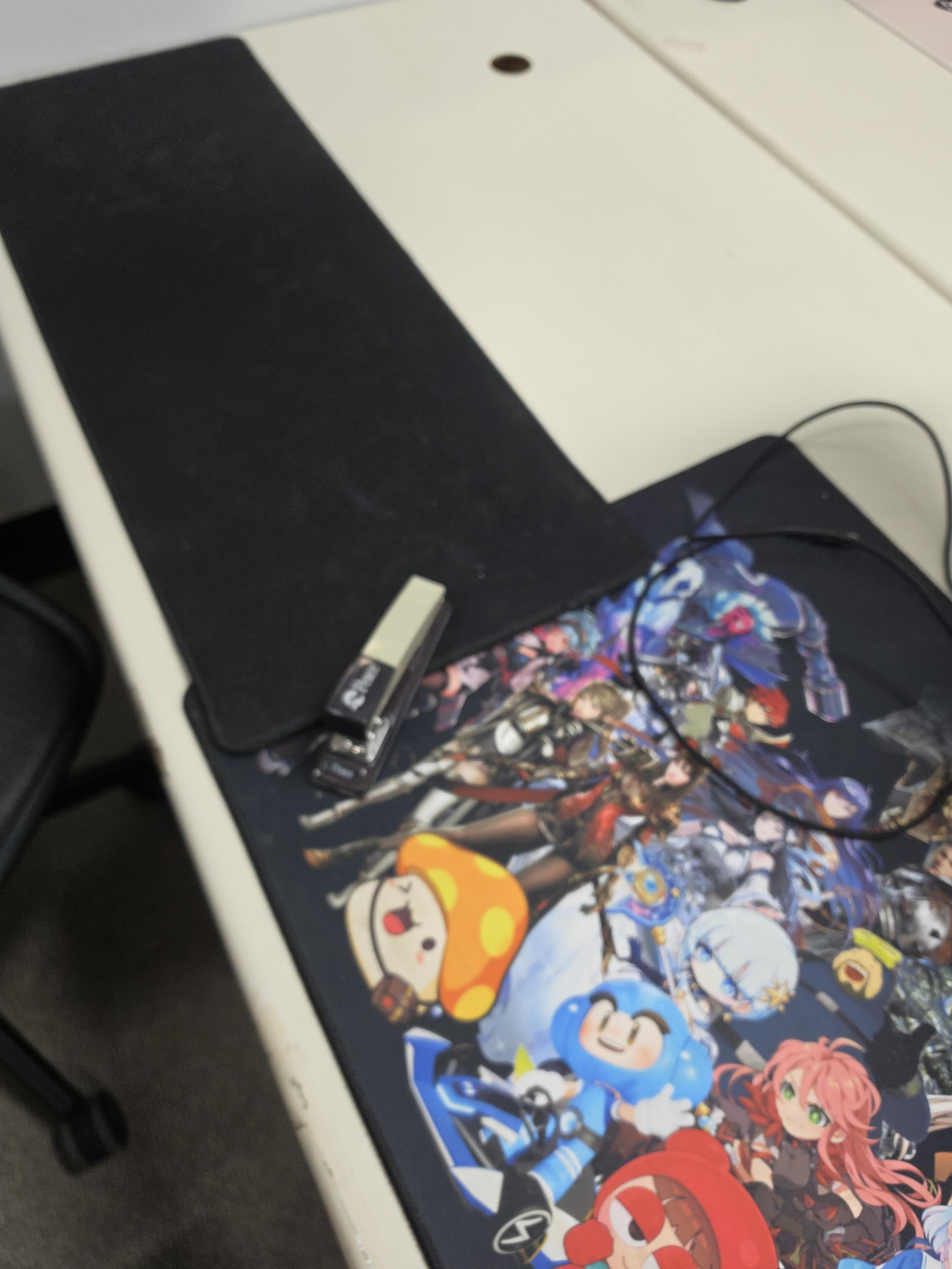stapler: (309, 573, 453, 796)
